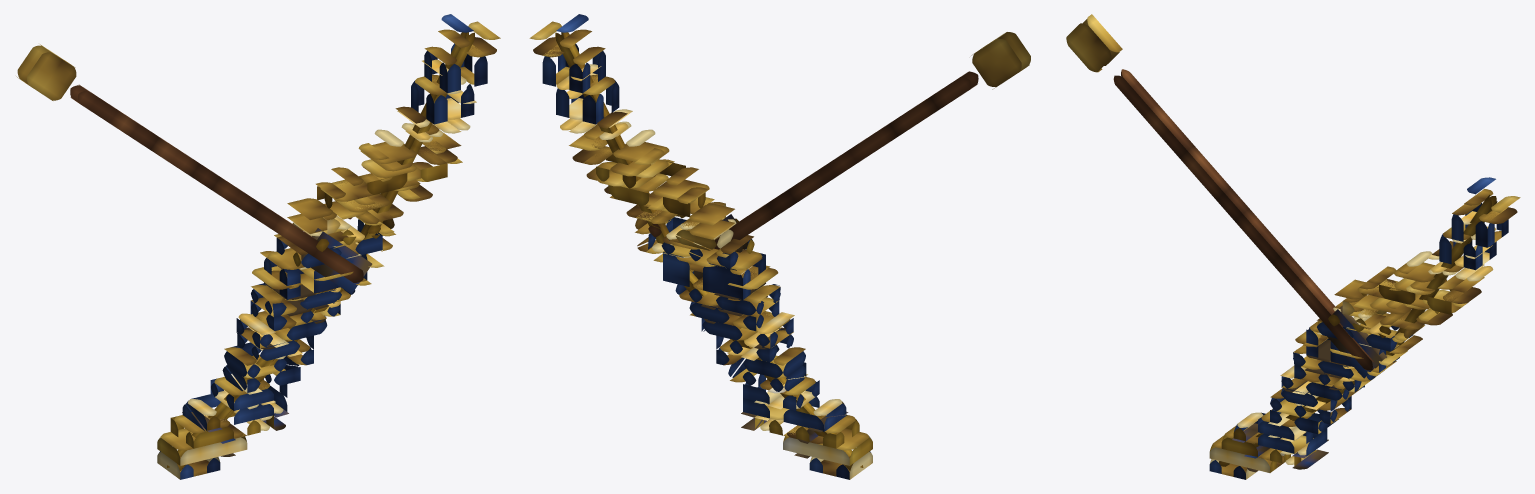
Rendered from reed_bow_pulling_0.obj.
3 renders of one model, left to right at view 1: azimuth 30°, elevation 25°; view 2: azimuth 150°, elevation 25°; view 3: azimuth 330°, elevation 25°, orthographic. The views are drawn at different scales.
Parts seen in each view (by area): view 1: lit, fire; view 2: lit; view 3: lit, fire.
Part boxes in pixels (x1=…): lit: x1=16, y1=14, x2=500, y2=479; fire: x1=301, y1=228, x2=372, y2=294; lit: x1=529, y1=14, x2=1030, y2=479; lit: x1=1066, y1=14, x2=1520, y2=479; fire: x1=1327, y1=305, x2=1386, y2=378.
Size of the model in its own units: 1.12 by 1.05 by 0.125.
